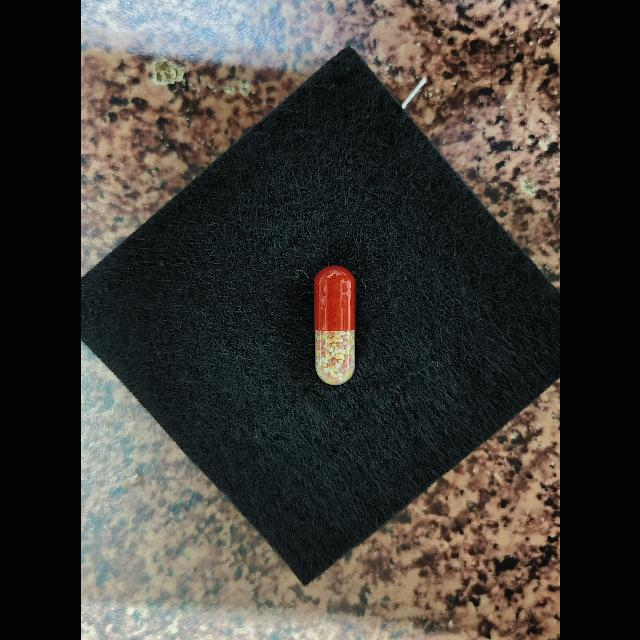Intact Capsule: (314, 266, 355, 386)
